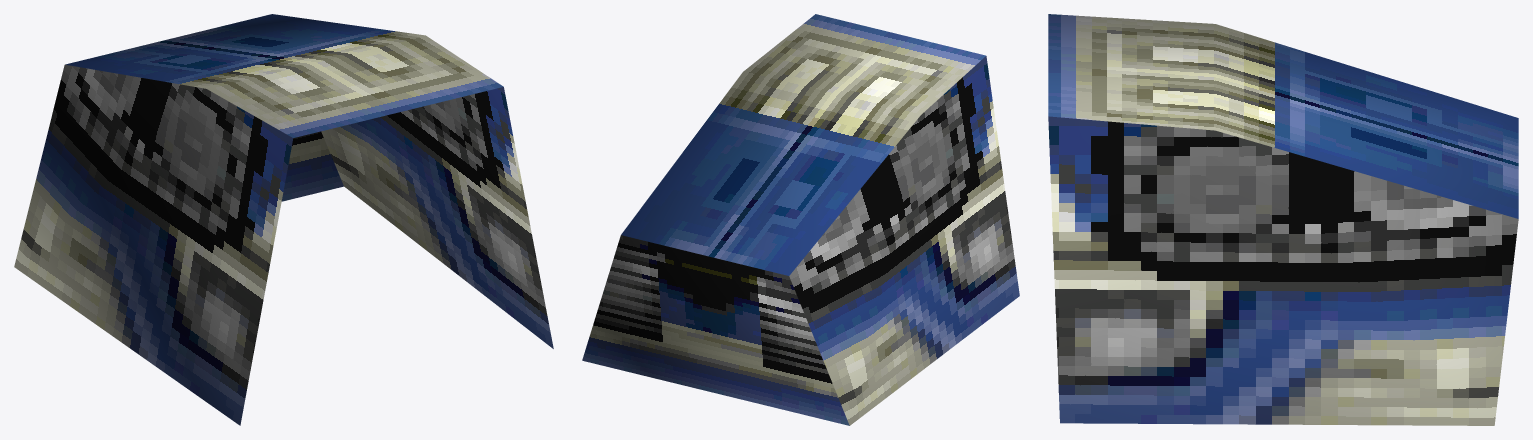
The model's file is DrillTruckX_Anim.glb.
3 views of the same model, side by side, from view 1: azimuth 30°, elevation 25°; view 2: azimuth 150°, elevation 25°; view 3: azimuth 270°, elevation 25° (orthographic). The views are drawn at different scales.
Parts seen in each view (by area): view 1: DrillTruckX_Anim_part00; view 2: DrillTruckX_Anim_part00; view 3: DrillTruckX_Anim_part00.
Part boxes in pixels (x1,y1,x2,y2): DrillTruckX_Anim_part00: [14, 14, 553, 425]; DrillTruckX_Anim_part00: [582, 14, 1019, 425]; DrillTruckX_Anim_part00: [1048, 14, 1518, 425].
Bounding box in the file's own units: 7.52 × 6.11 × 9.32.
Materials: 3 (3 with a texture image).
